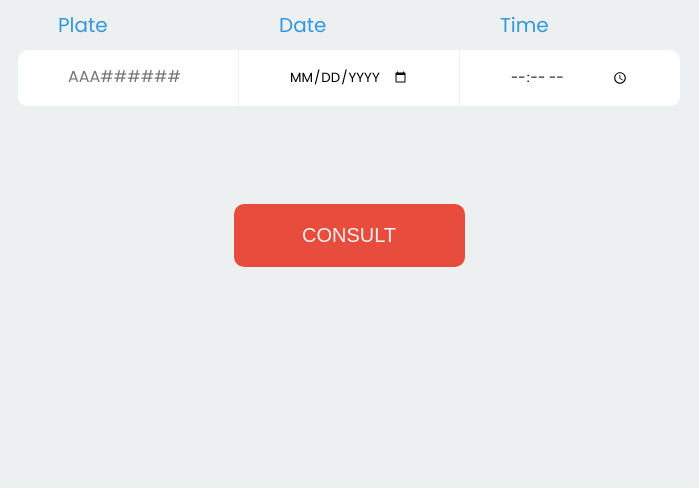
Test: querying › User querying ui WRONG license plate
Type "AA11259" into the field labelled "Plate" at (128, 78), box left=18, top=50, right=238, bottom=106
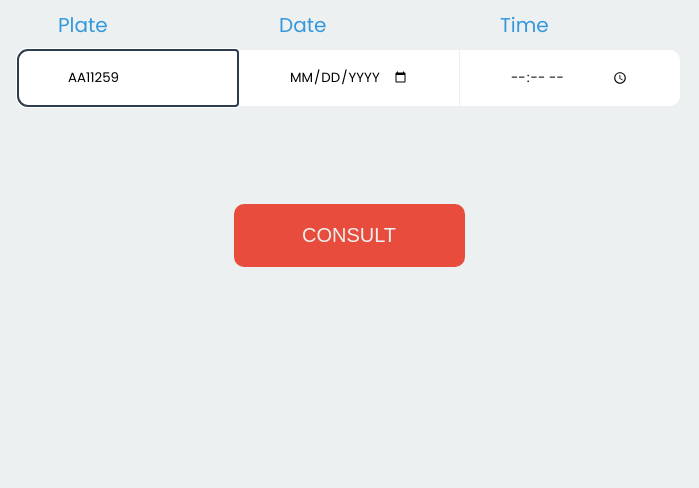
Type "2022-07-28" into the date field labelled "Date" at (349, 78), box left=239, top=50, right=459, bottom=106
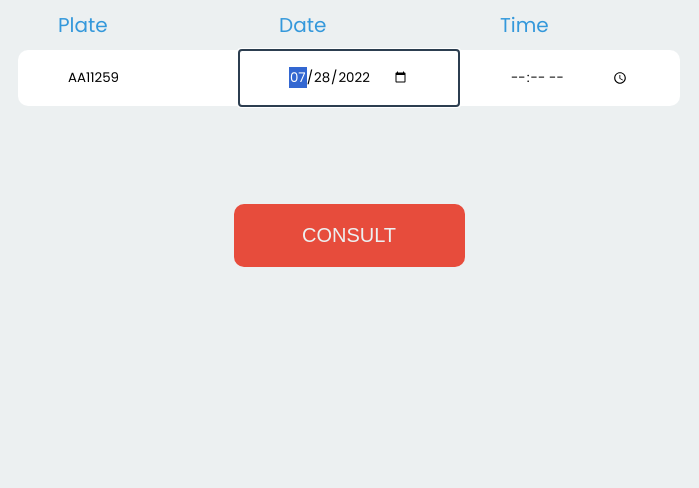
Type "08:57" into the time field labelled "Time" at (570, 78), box left=460, top=50, right=680, bottom=106
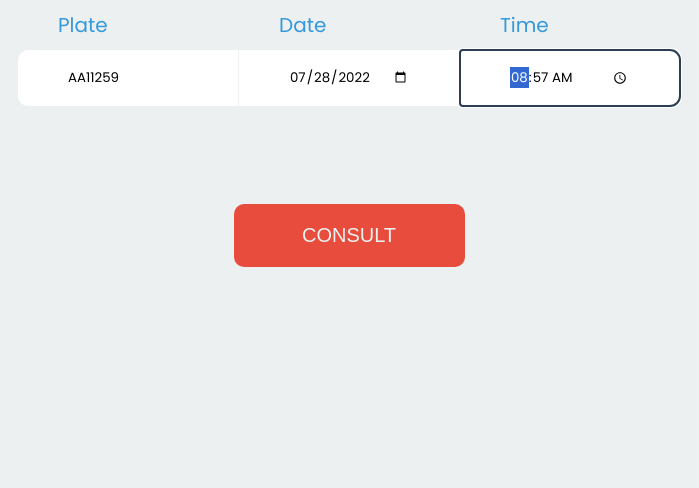
Click the button "Consult" at (350, 236), box left=234, top=204, right=465, bottom=267
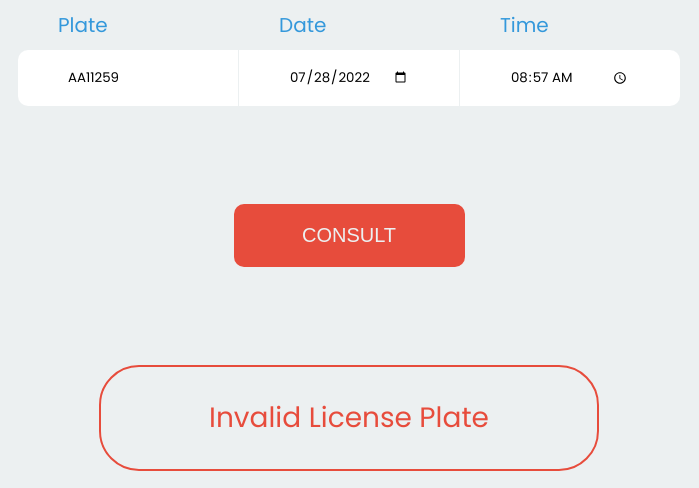
Expected: the text "Invalid License Plate" is shown, left=209, top=397, right=489, bottom=439
